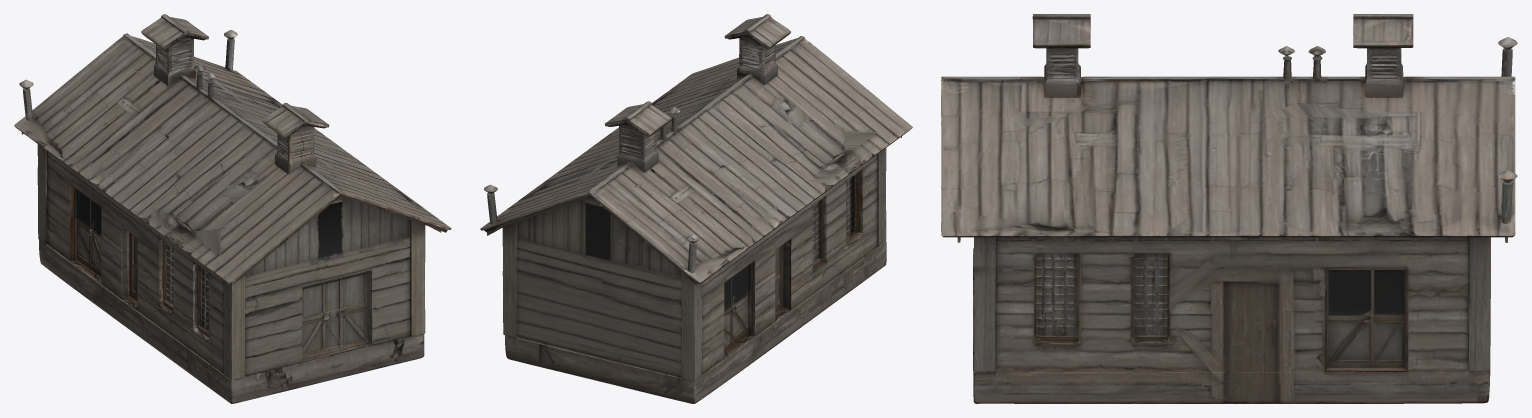
File: oldHouse_1.glb
The picture shows the model from 3 angles, left to right: view 1: azimuth 30°, elevation 25°; view 2: azimuth 150°, elevation 25°; view 3: azimuth 270°, elevation 25°; orthographic projection. The views are drawn at different scales.
Parts seen in each view (by area): view 1: b1; view 2: b1; view 3: b1.
Part boxes in pixels (<box>): b1: <box>14,14,451,403</box>; b1: <box>480,14,912,403</box>; b1: <box>941,14,1517,403</box>.
Bounding box in the file's own units: 1.09 × 1.15 × 1.83.
Materials: 1 (1 with a texture image).
